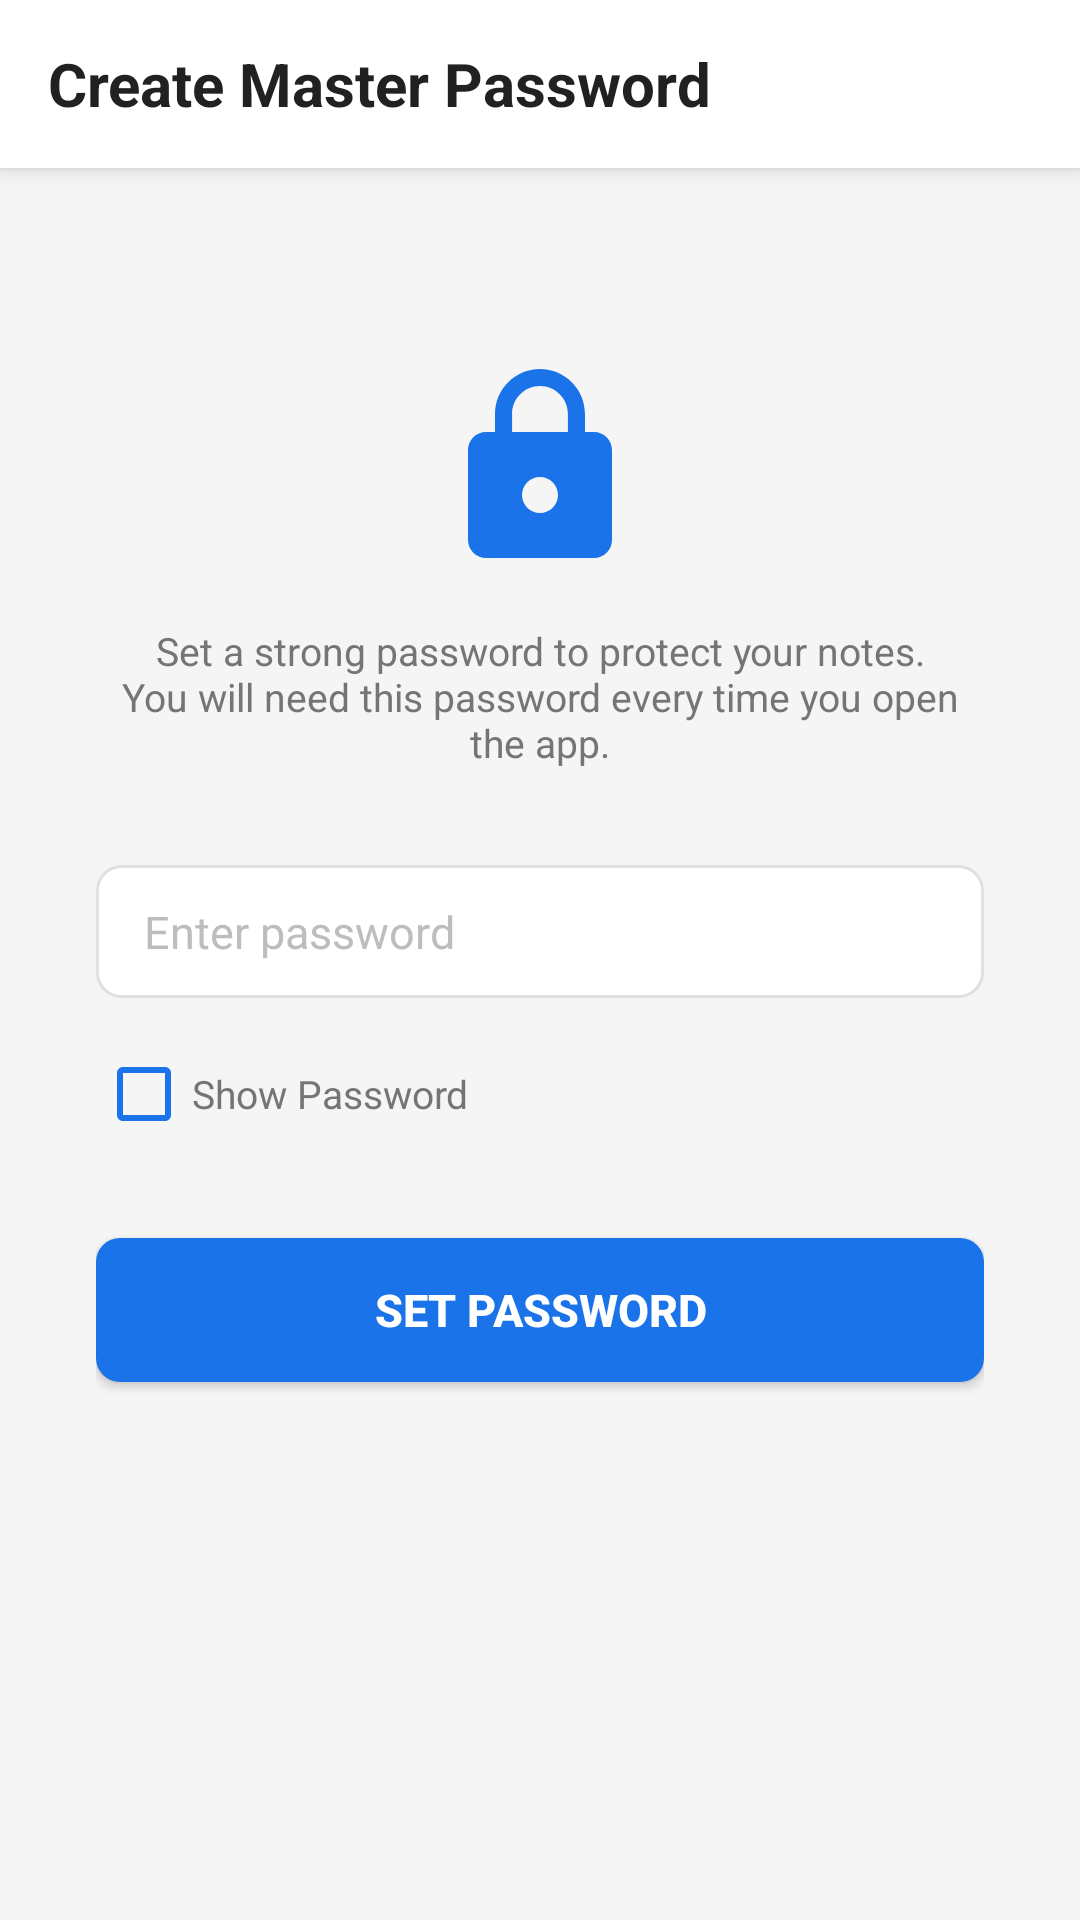

Named icons in this screenshot (1080px×1920px) and their centers, [x,y]:
Lock: [540,463]
